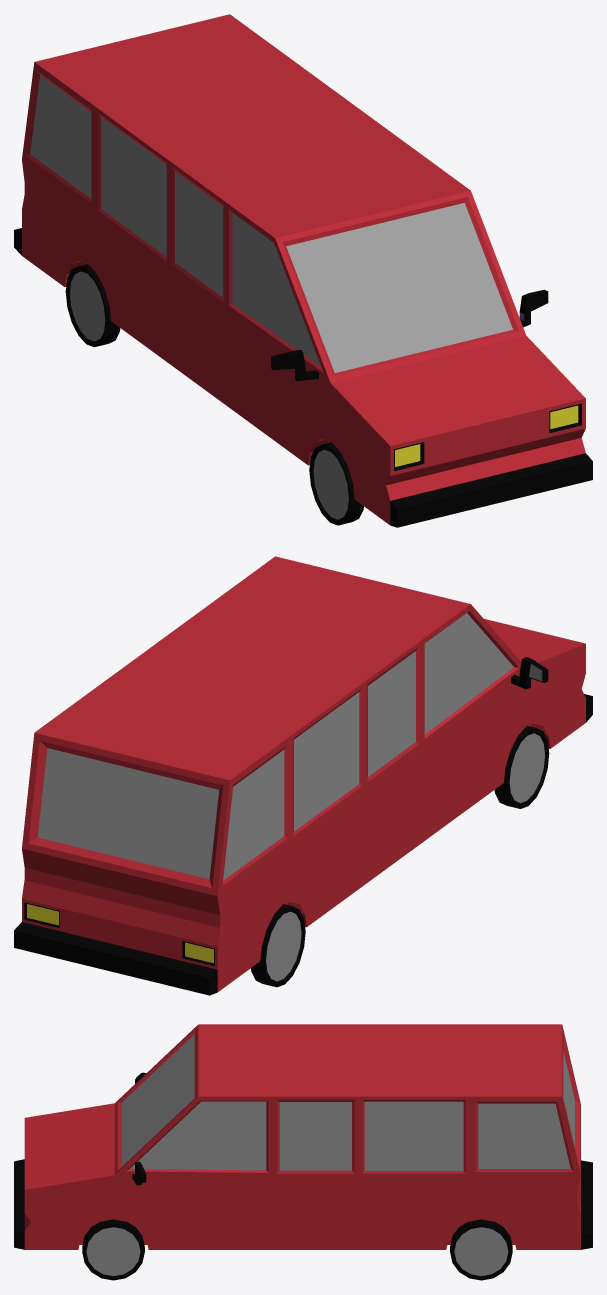
File: Minivan 2.fbx
The picture shows the model from 3 angles, top to bottom: view 1: azimuth 30°, elevation 25°; view 2: azimuth 150°, elevation 25°; view 3: azimuth 270°, elevation 25°; orthographic projection. The views are drawn at different scales.
Parts seen in each view (by area): view 1: Minivan Body.002, Wheel FR.022, Wheel RR.020; view 2: Minivan Body.002, Wheel RR.020, Wheel FR.022; view 3: Minivan Body.002, Wheel RL.020, Wheel FL.022.
Boxes of the visible parts, bbox=[...] form: Minivan Body.002: bbox=[14, 14, 592, 527]; Wheel FR.022: bbox=[309, 442, 363, 525]; Wheel RR.020: bbox=[65, 264, 120, 347]; Minivan Body.002: bbox=[14, 556, 592, 995]; Wheel RR.020: bbox=[251, 904, 305, 987]; Wheel FR.022: bbox=[494, 725, 549, 808]; Minivan Body.002: bbox=[14, 1024, 592, 1249]; Wheel RL.020: bbox=[450, 1219, 512, 1280]; Wheel FL.022: bbox=[82, 1219, 144, 1280].
Size of the model in its own units: 2.04 by 1.71 by 4.91.
